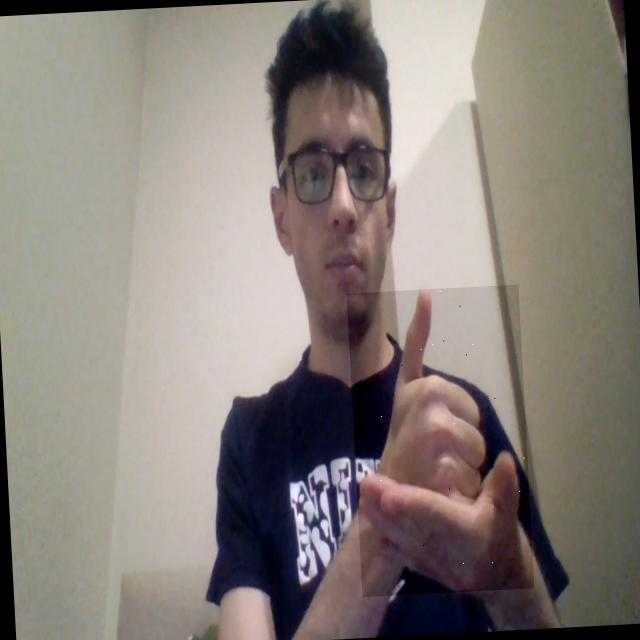help: (347, 284, 534, 598)
